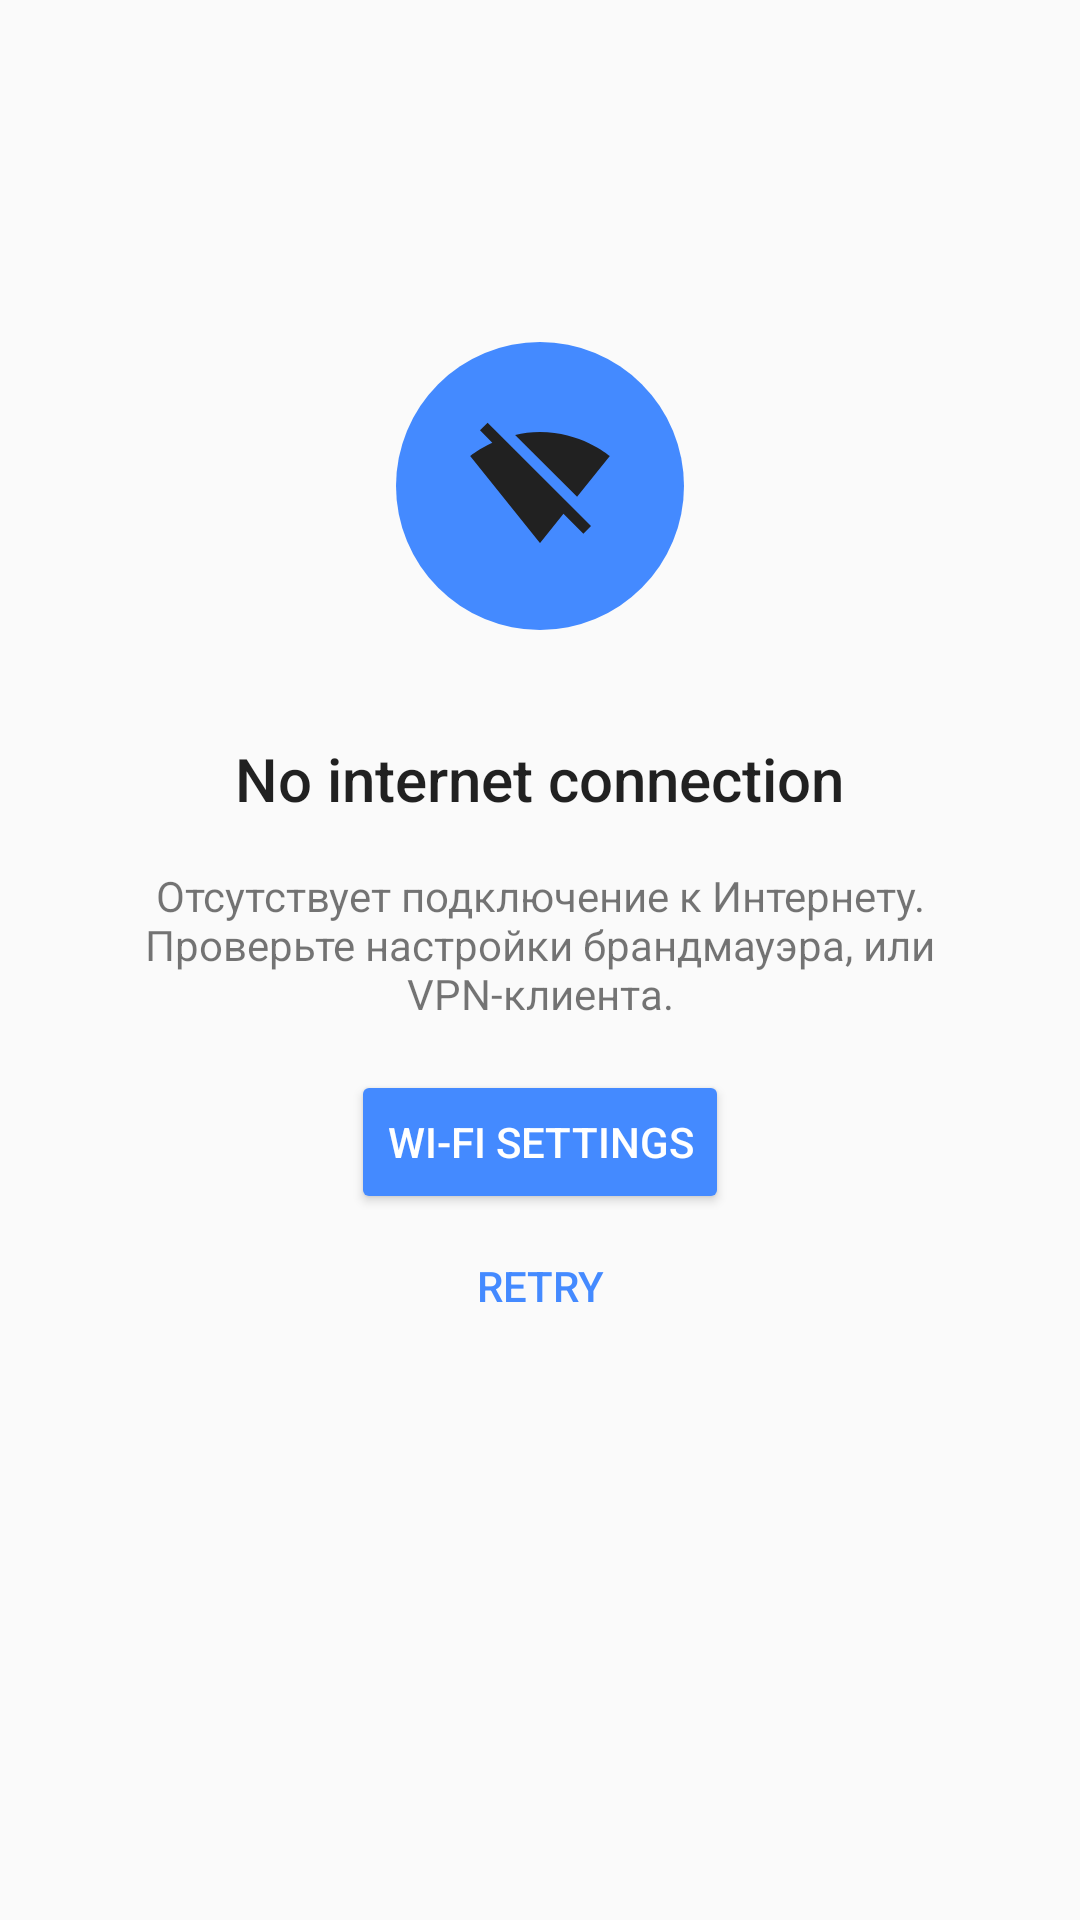

Point at icon controls on the screen. Image size 1080×1920, points as (x,y).
signal wifi off: (540,483)
